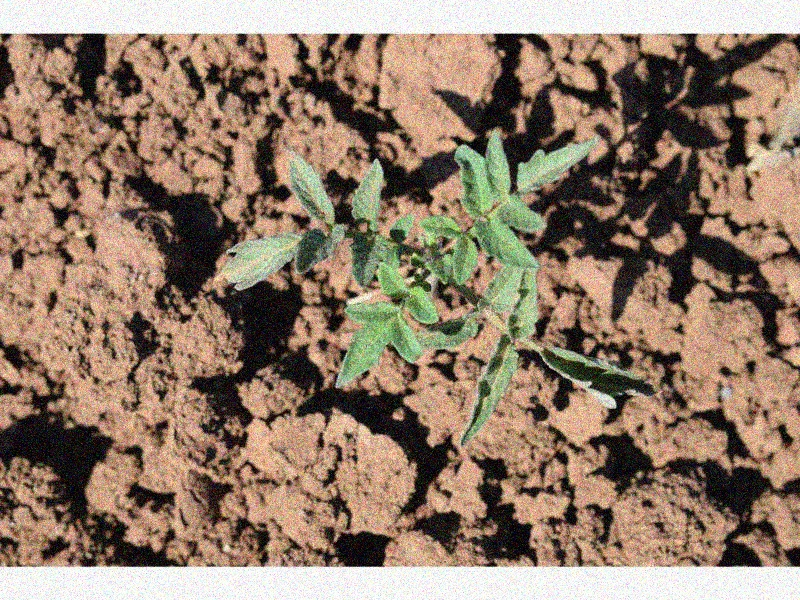tomato: (219, 132, 658, 445)
